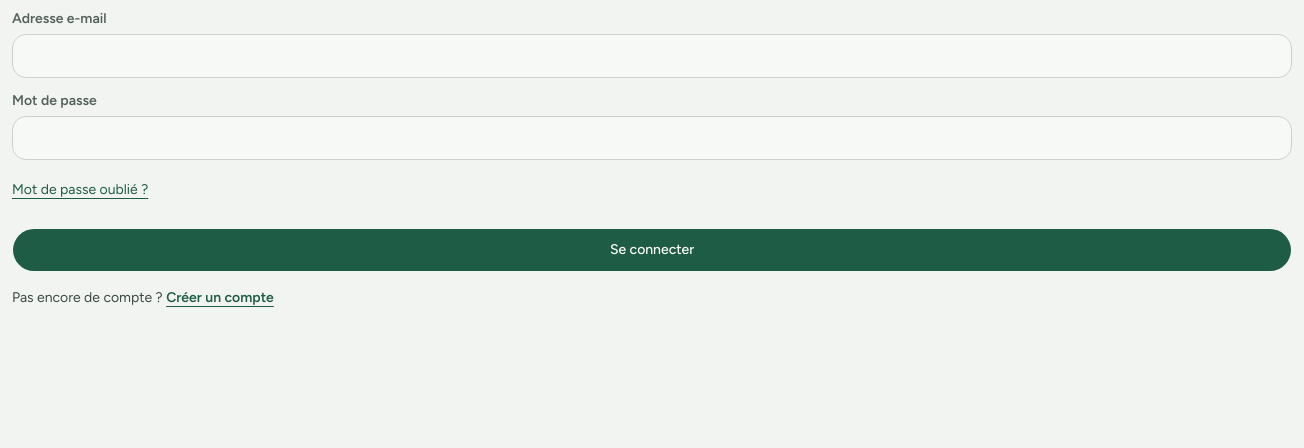
Test: LoginForm › offers to resend the activation email when the account is not activated yet
Step 1. Type "moi@example.com" into the field labelled "Adresse e-mail" → (652, 56), box left=12, top=34, right=1292, bottom=78
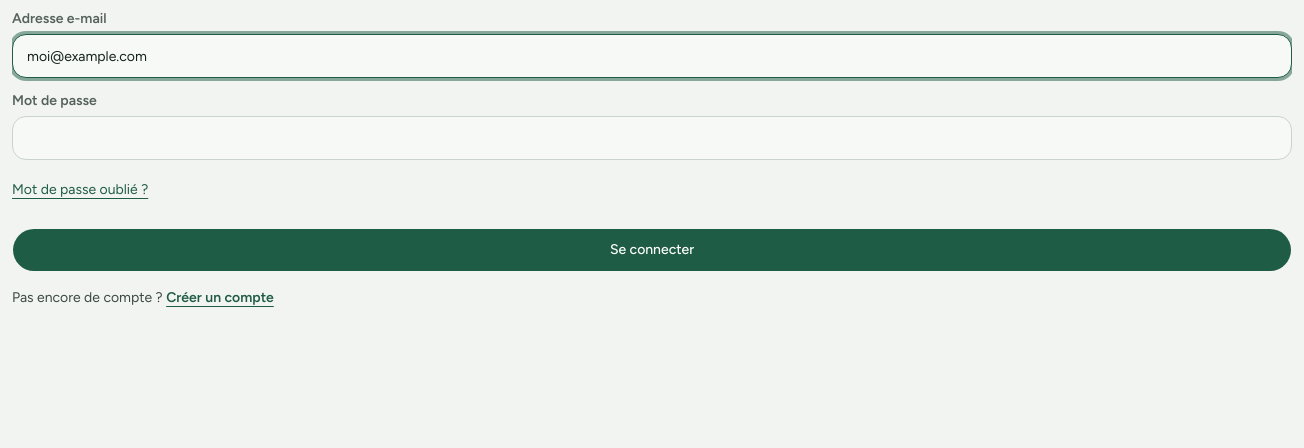
Step 2. Type "secret" into the password field labelled "Mot de passe" → (652, 138), box left=12, top=116, right=1292, bottom=160
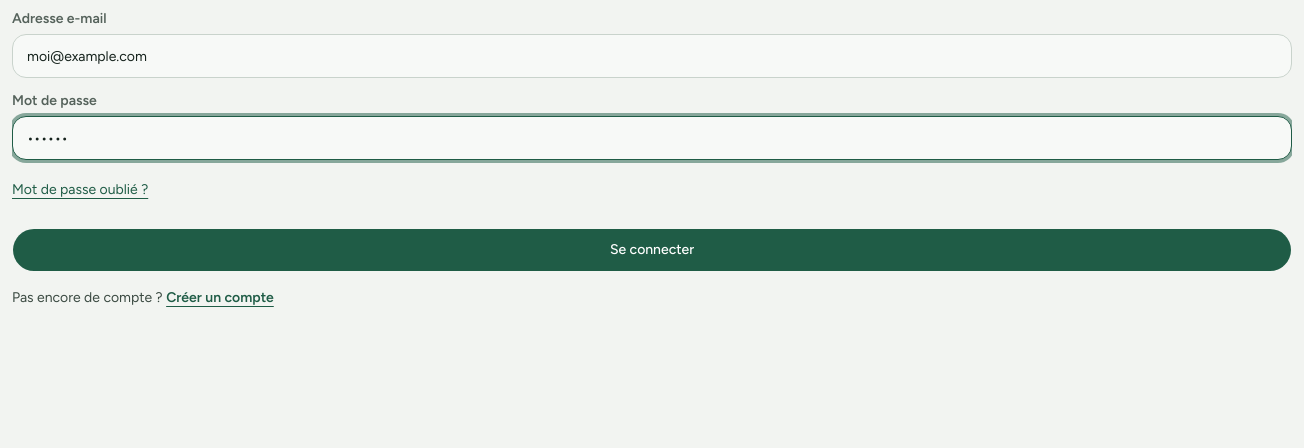
Step 3. Click the button "Se connecter" → (652, 250), box left=12, top=228, right=1292, bottom=272
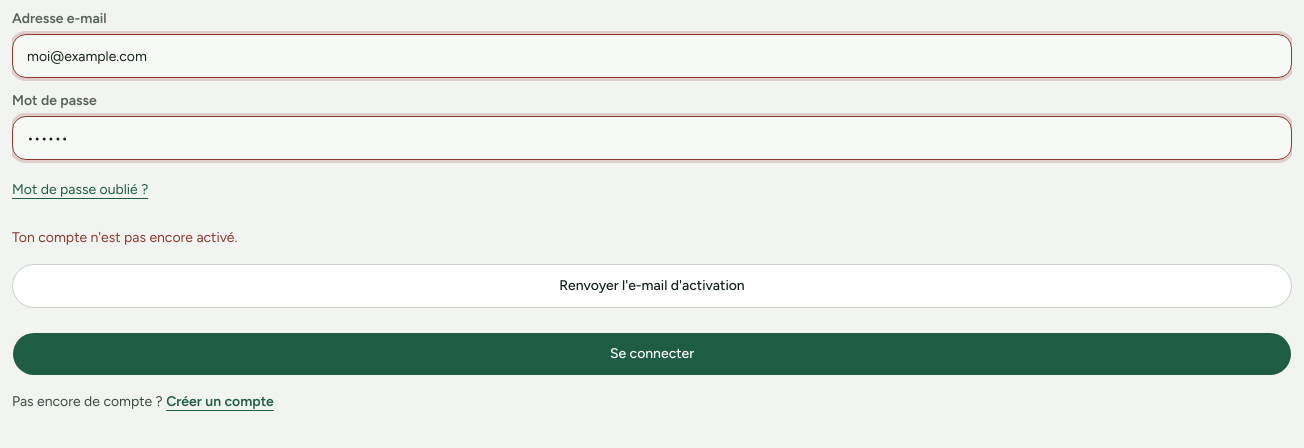
Step 4. Click the button "Renvoyer l'e-mail d'activation" → (652, 286), box left=12, top=264, right=1292, bottom=308
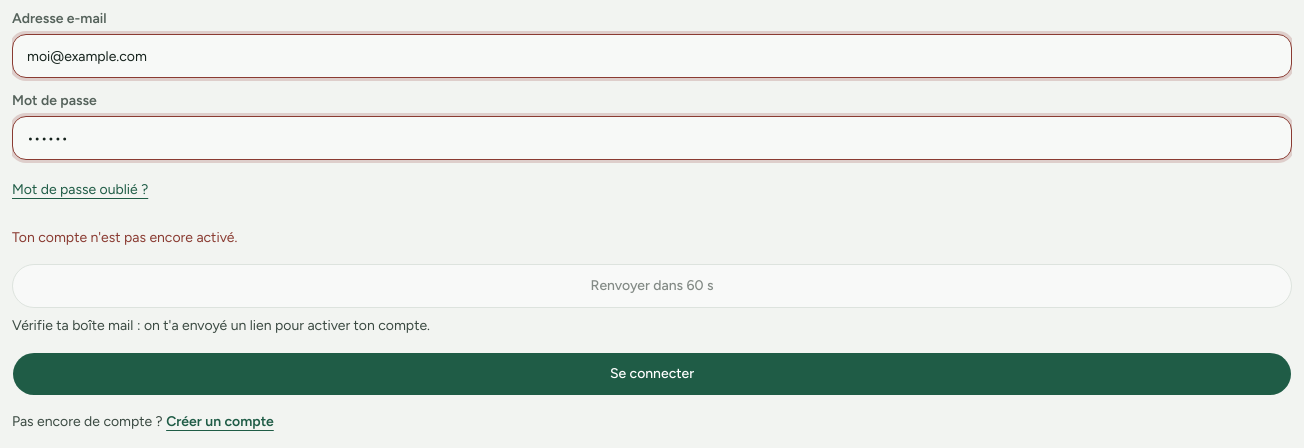
Check: the message "Vérifie ta boîte mail : on t'a envoyé un lien pour activer ton compte." is shown, box left=12, top=317, right=430, bottom=334
Check: the button "Renvoyer dans 60 s" is disabled, box left=12, top=264, right=1292, bottom=308
